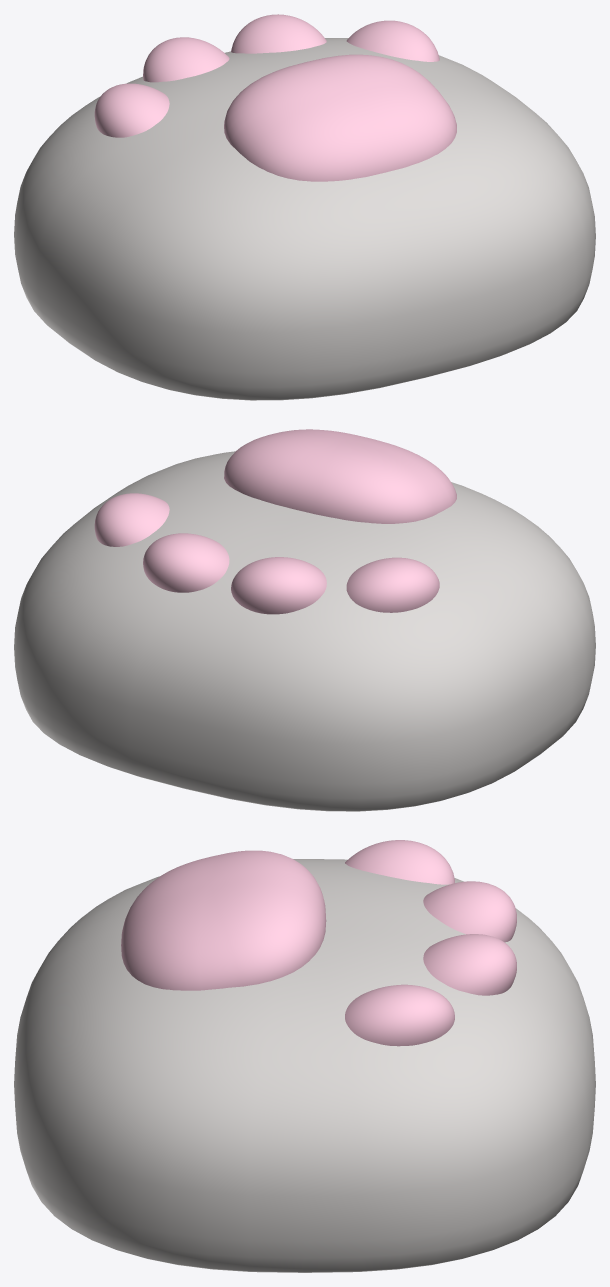
File: squishy_catpaw.glb
3 views of the same model, one above another, from view 1: azimuth 30°, elevation 25°; view 2: azimuth 150°, elevation 25°; view 3: azimuth 270°, elevation 25° (orthographic). The views are drawn at different scales.
Parts seen in each view (by area): view 1: Body, Part_4, Part_0, Part_1, Part_2, Part_3; view 2: Body, Part_4, Part_1, Part_2, Part_0, Part_3; view 3: Body, Part_4, Part_3, Part_2, Part_1, Part_0.
Part boxes in pixels (x1,y1,x2,y2): Body: (14,38,595,400); Part_4: (224,54,456,181); Part_0: (94,83,169,137); Part_1: (143,37,229,82); Part_2: (231,14,326,53); Part_3: (346,20,439,61); Body: (14,451,595,811); Part_4: (224,429,456,523); Part_1: (231,557,326,614); Part_2: (143,533,229,592); Part_0: (346,557,439,612); Part_3: (94,493,169,546); Body: (14,859,595,1272); Part_4: (121,850,326,990); Part_3: (345,984,454,1046); Part_2: (423,934,516,995); Part_1: (423,881,516,942); Part_0: (345,840,454,884).
Bounding box in the file's own units: 2.2 × 1.12 × 2.
